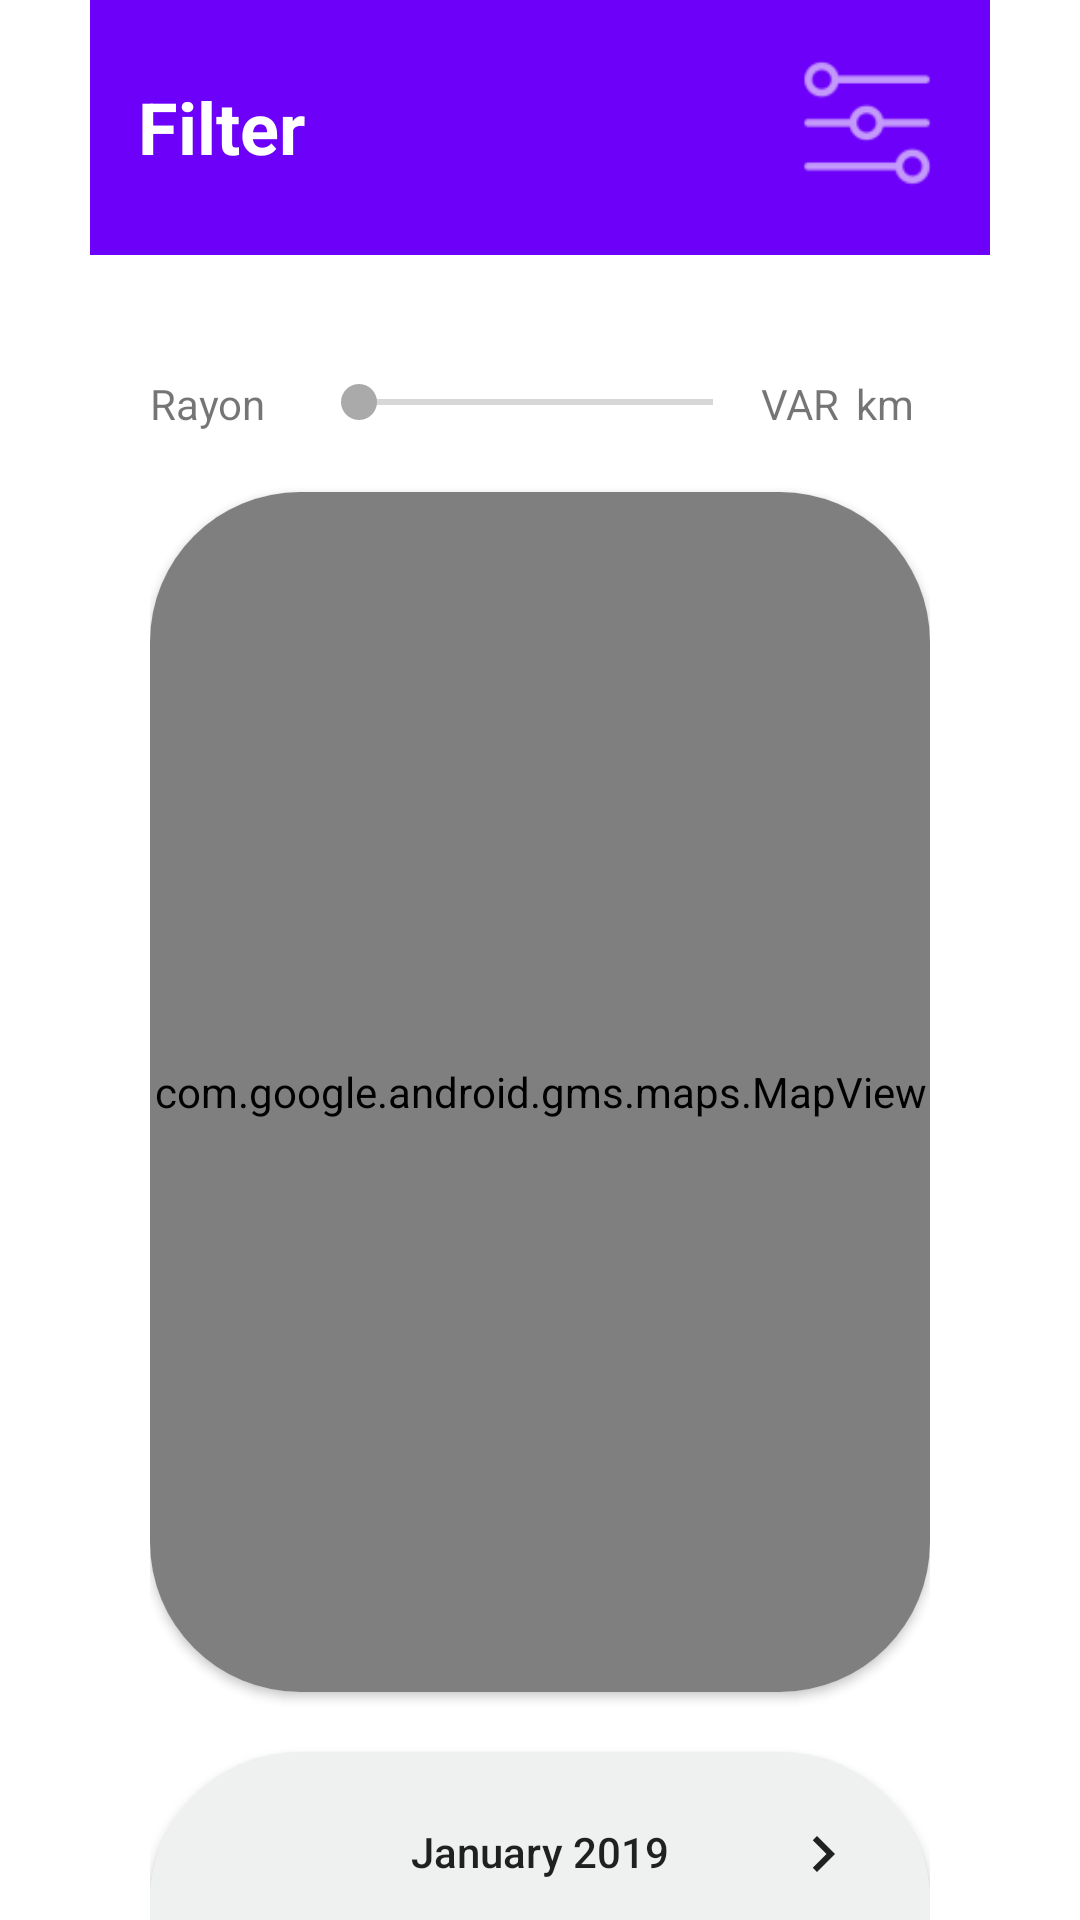

Named icons in this screenshot (1080*1920) and their bounding boxes, (left=x1, top=y1, right=x2, bottom=y2):
filter: (left=804, top=62, right=930, bottom=184)
